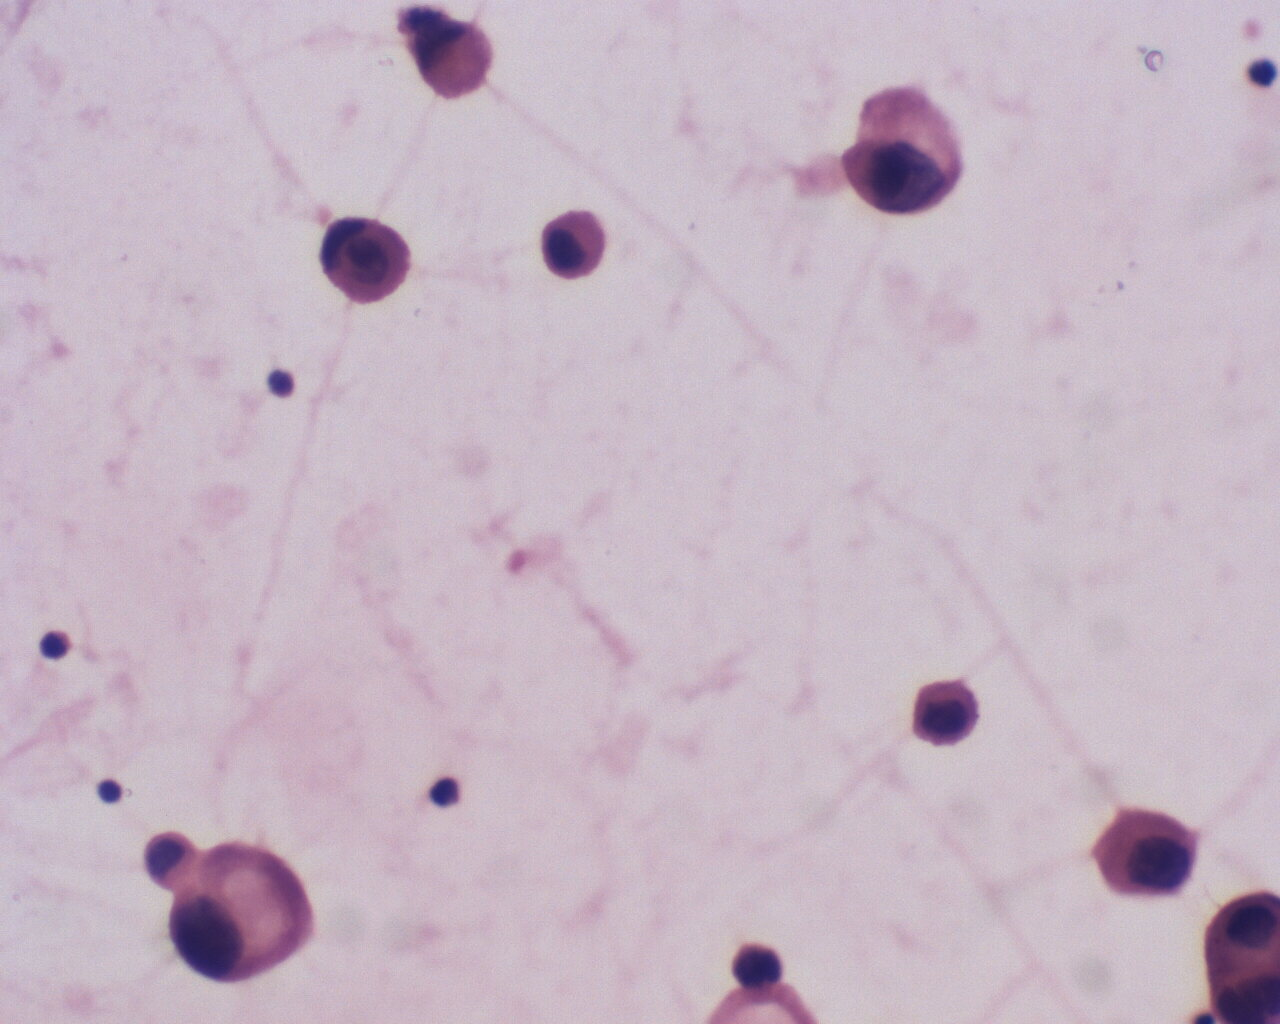ab: (1091, 802, 1198, 902)
histo: (158, 843, 323, 985), (409, 14, 498, 102)
lymph: (426, 767, 472, 815), (261, 366, 305, 408), (90, 776, 127, 813)
meso: (538, 205, 614, 286)
